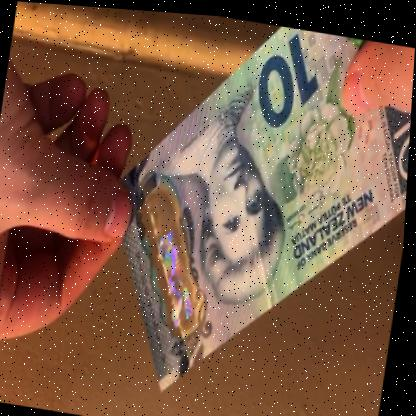10B: (148, 224, 212, 331)
